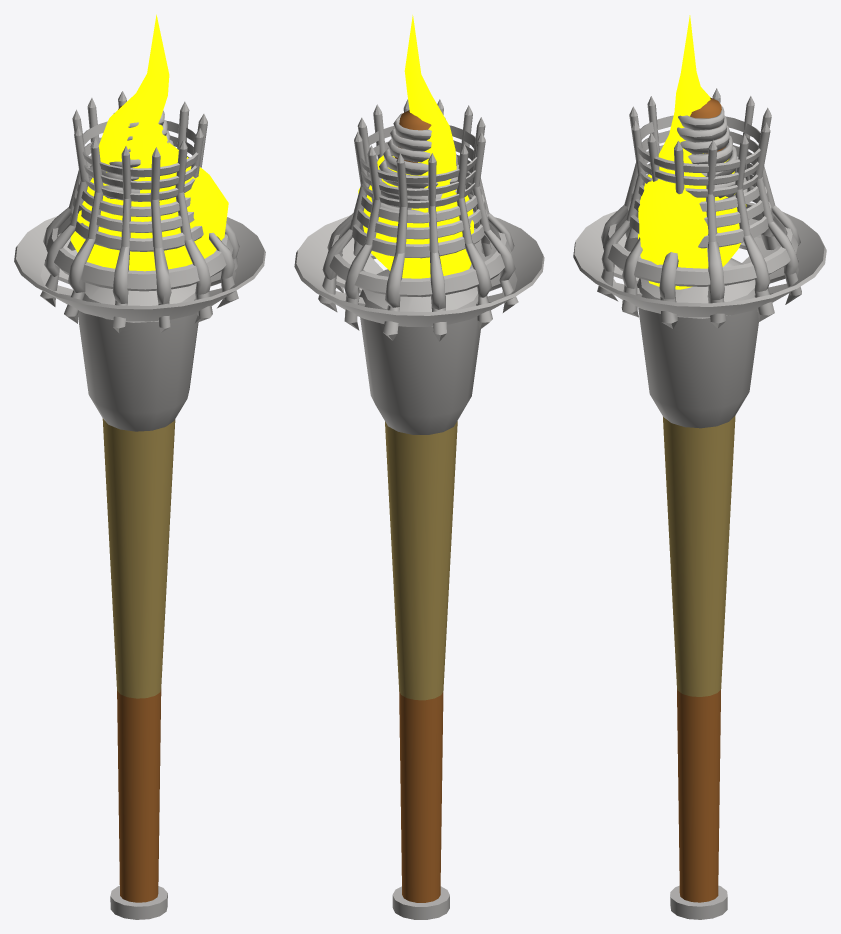
File: torch.glb
3 renders of one model, left to right at view 1: azimuth 30°, elevation 25°; view 2: azimuth 150°, elevation 25°; view 3: azimuth 270°, elevation 25°, orthographic.
Parts seen in each view (by area): view 1: torch, flame; view 2: torch, flame; view 3: torch, flame.
Part boxes in pixels (left/top/right/bottom): torch: left=14, top=91, right=265, bottom=919; flame: left=70, top=14, right=228, bottom=271; torch: left=294, top=99, right=544, bottom=919; flame: left=358, top=15, right=473, bottom=278; torch: left=573, top=88, right=826, bottom=919; flame: left=638, top=15, right=746, bottom=289.
Size of the model in its own units: 2.36 by 9.23 by 2.36.
